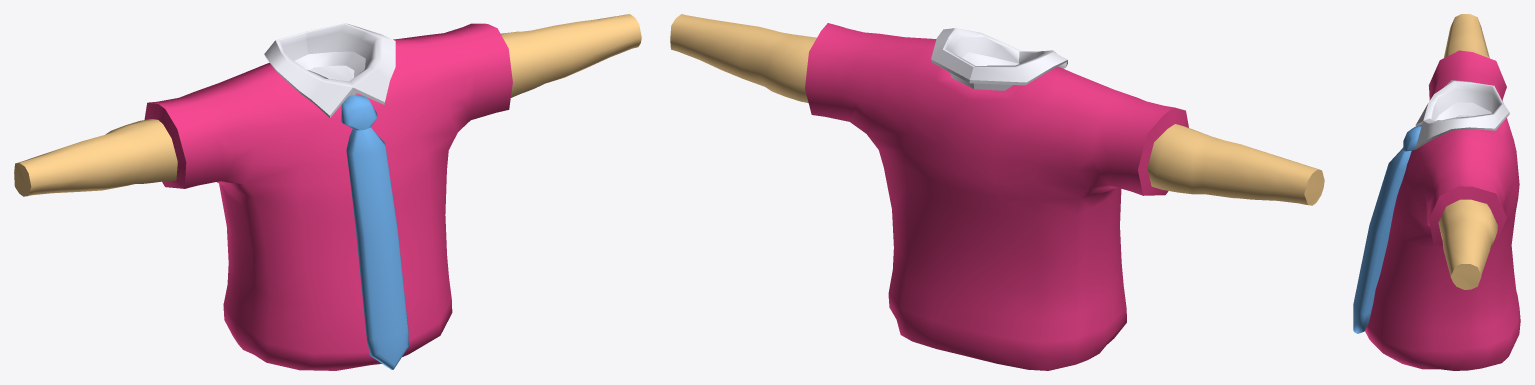
The model's file is Torso_02_04.fbx.
3 views of the same model, side by side, from view 1: azimuth 30°, elevation 25°; view 2: azimuth 150°, elevation 25°; view 3: azimuth 270°, elevation 25° (orthographic). The views are drawn at different scales.
Parts seen in each view (by area): view 1: Torso_02_04; view 2: Torso_02_04; view 3: Torso_02_04.
Part boxes in pixels (bbox=[...]): Torso_02_04: bbox=[14, 14, 641, 370]; Torso_02_04: bbox=[670, 14, 1324, 370]; Torso_02_04: bbox=[1353, 14, 1520, 370].
Bounding box in the file's own units: 118 × 52.8 × 33.36.
